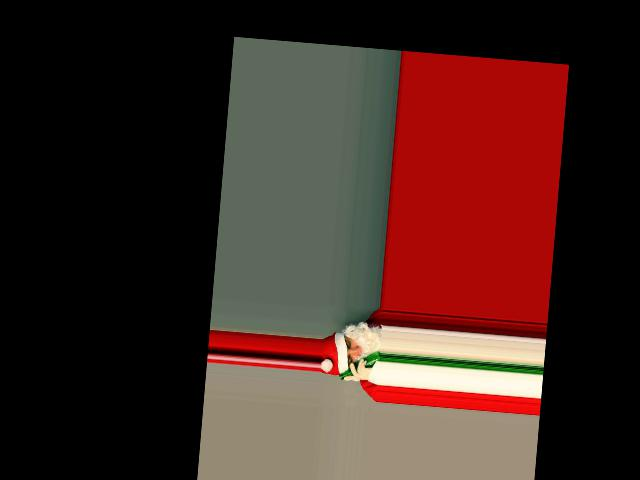beer: (339, 349, 380, 383)
